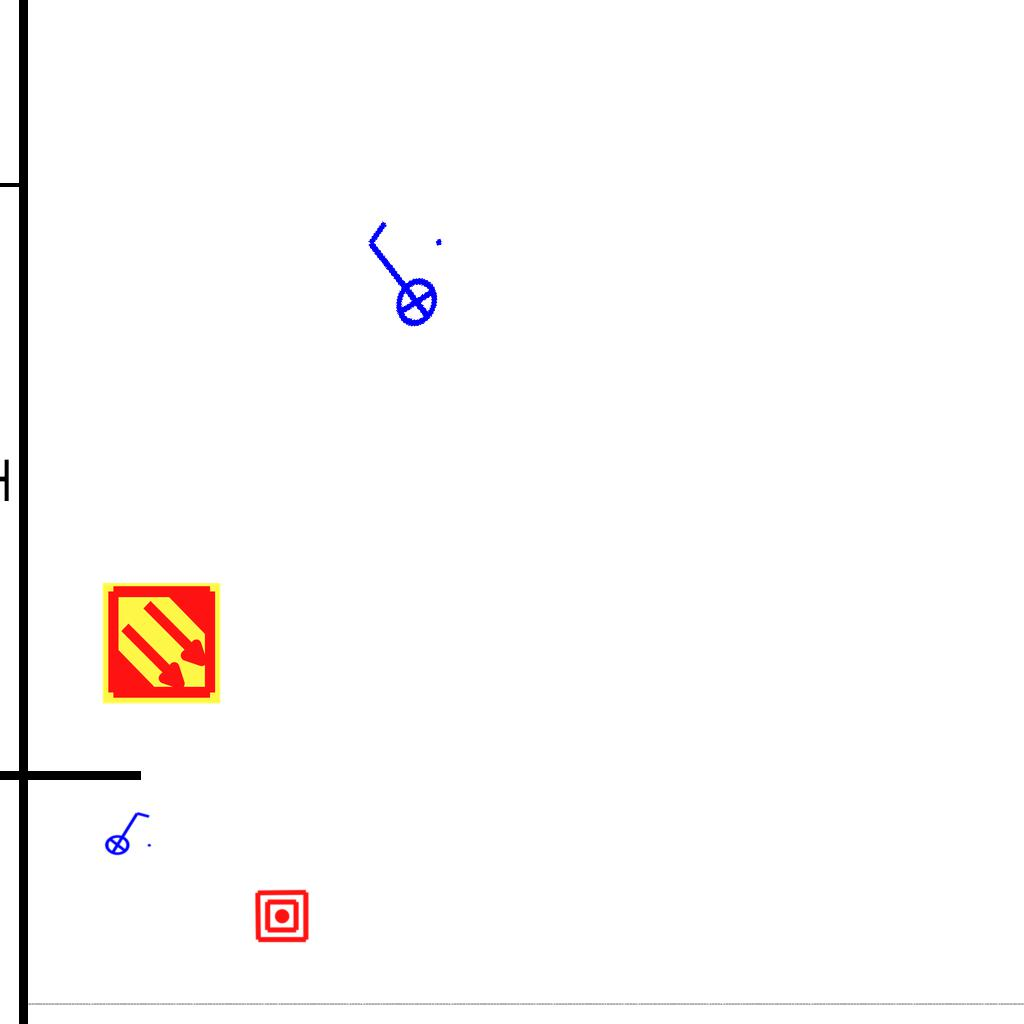ASR_Ansaugrauchmelder: (99, 581, 224, 706)
Ausschalter_beleuchtet: (333, 207, 463, 347), (98, 808, 154, 856)
NAM-Nichtautomatischer_Melder: (254, 888, 310, 944)
